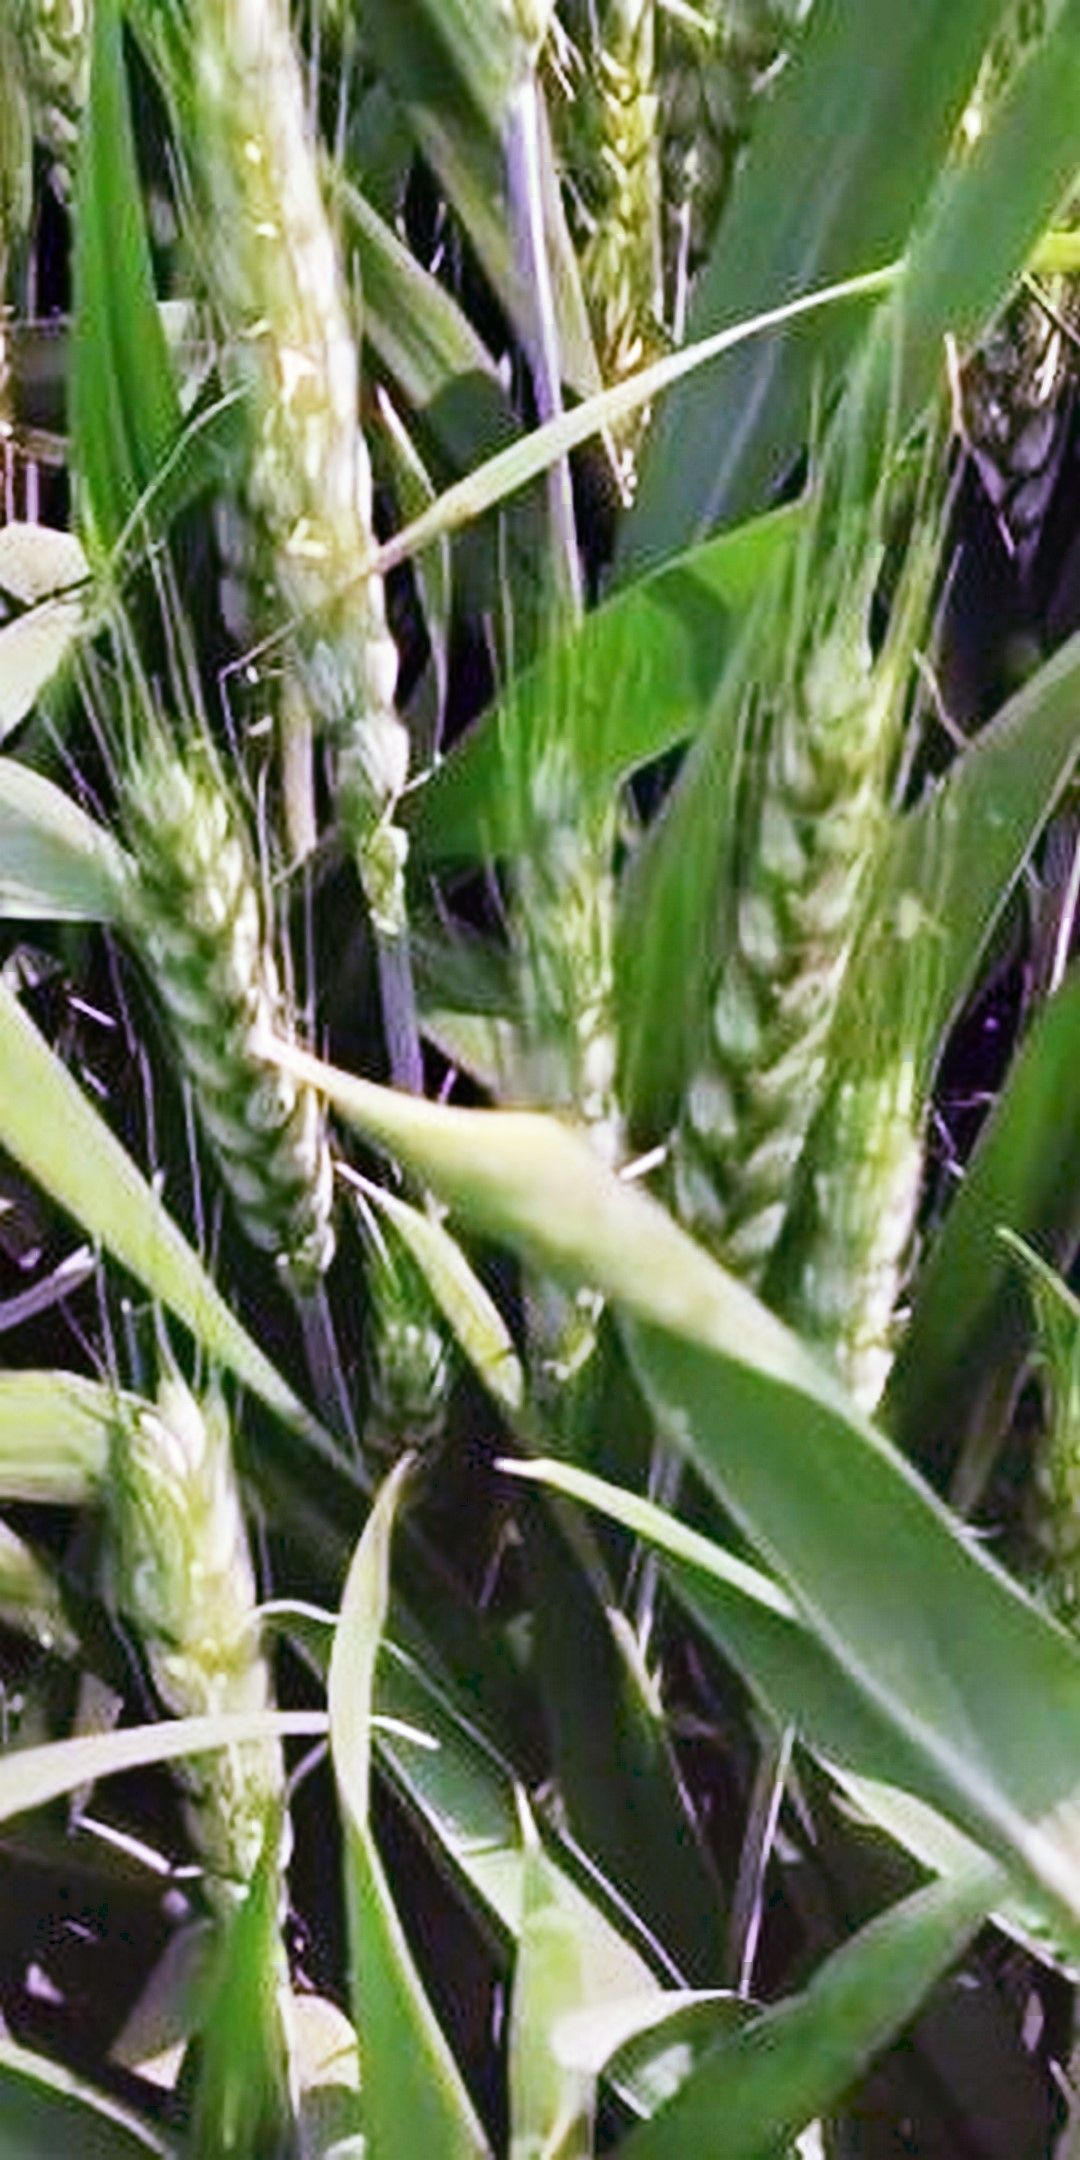Healthy Wheat: (88, 740, 397, 1287)
